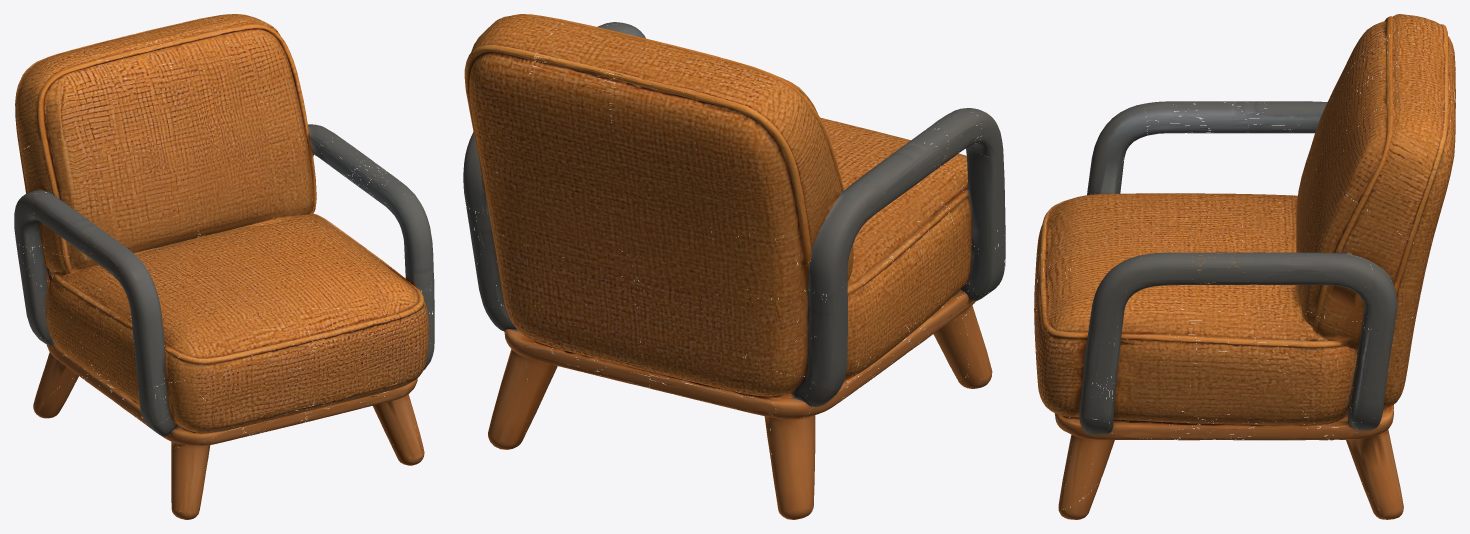
The model's file is lounge-chair.parts.glb.
3 views of the same model, side by side, from view 1: azimuth 30°, elevation 25°; view 2: azimuth 150°, elevation 25°; view 3: azimuth 270°, elevation 25° (orthographic). The views are drawn at different scales.
Parts seen in each view (by area): view 1: seat, base; view 2: seat, base; view 3: seat, base.
Part boxes in pixels (x1,y1,x2,y2): seat: (14,14,434,403); base: (25,284,434,519); seat: (463,14,1005,362); base: (477,231,1005,519); seat: (1034,14,1455,394); base: (1034,323,1408,519).
Bounding box in the file's own units: 0.8847 × 0.9812 × 0.9611.
Materials: 1 (1 with a texture image).
